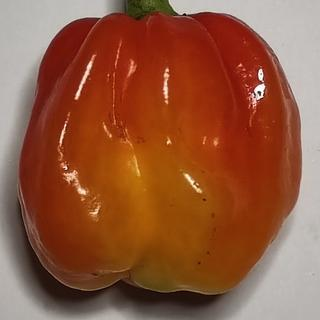Grade-A: (7, 6, 304, 302)
